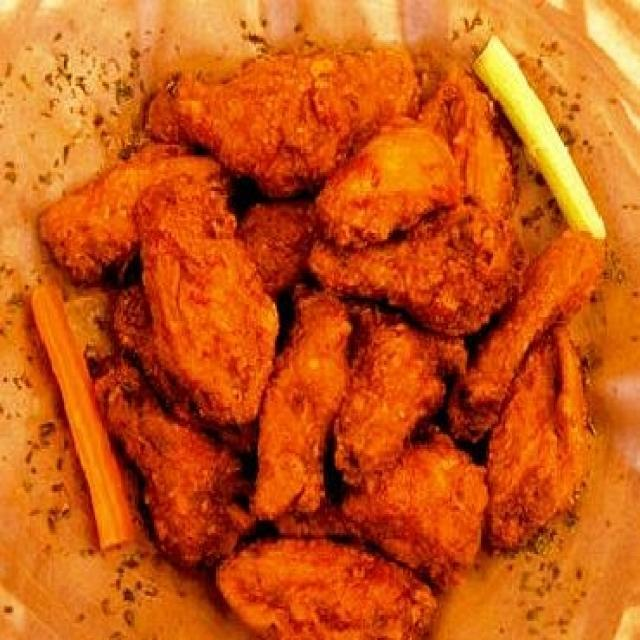Deep fried chicken wing: (104, 67, 559, 604)
